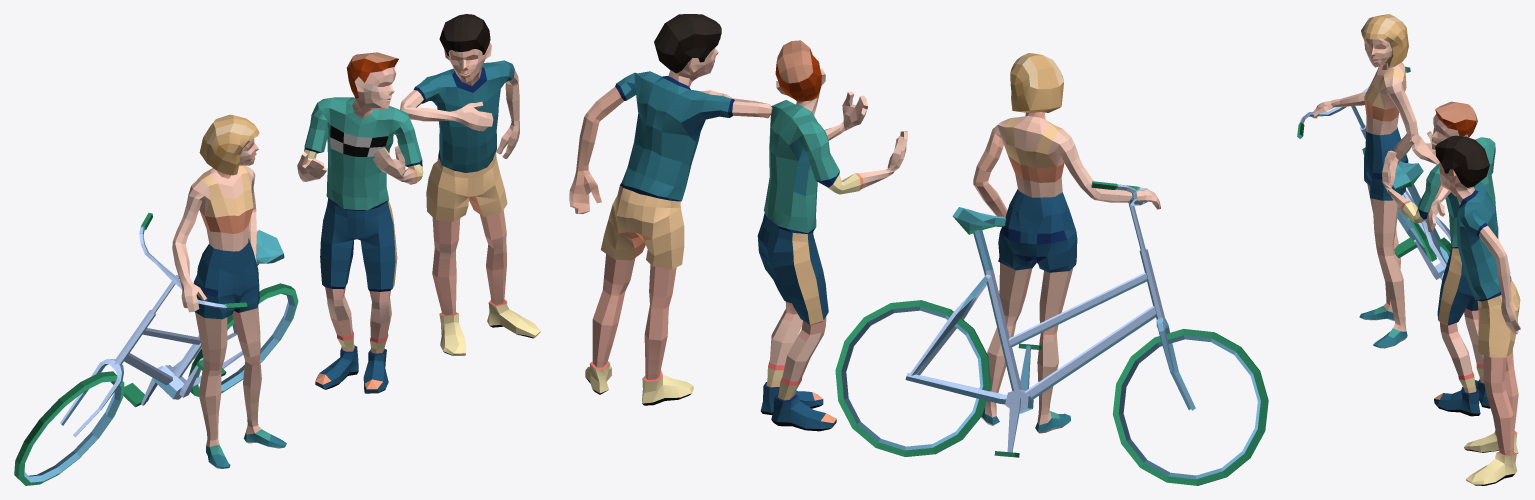
File: kids.glb
3 renders of one model, left to right at view 1: azimuth 30°, elevation 25°; view 2: azimuth 150°, elevation 25°; view 3: azimuth 270°, elevation 25°, orthographic. The views are drawn at different scales.
Visible parts, largest first — view 1: Object_3, Object_2; view 2: Object_3, Object_2; view 3: Object_3, Object_2.
Part boxes in pixels (left/top/right/bottom): Object_3: left=172, top=14, right=540, bottom=468; Object_2: left=14, top=212, right=298, bottom=485; Object_3: left=569, top=14, right=1160, bottom=433; Object_2: left=835, top=181, right=1268, bottom=485; Object_3: left=1311, top=14, right=1520, bottom=485; Object_2: left=1297, top=66, right=1451, bottom=280.
Size of the model in its own units: 265 by 151 by 98.15.
Materials: 2 (2 with a texture image).
